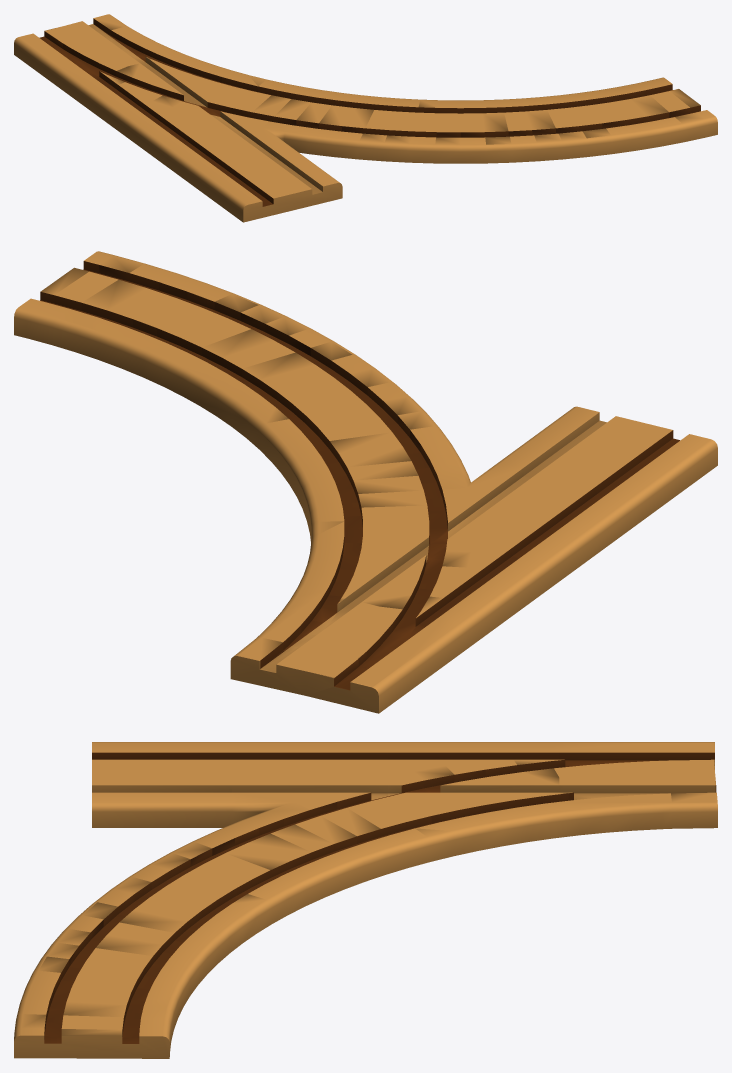
Rendered from JunctionLeft.fbx.
3 renders of one model, top to bottom at view 1: azimuth 30°, elevation 25°; view 2: azimuth 150°, elevation 25°; view 3: azimuth 270°, elevation 25°, orthographic. The views are drawn at different scales.
Parts seen in each view (by area): view 1: JunctionLeft; view 2: JunctionLeft; view 3: JunctionLeft.
Part boxes in pixels (left/top/right/bottom): JunctionLeft: left=14, top=14, right=717, bottom=222; JunctionLeft: left=14, top=251, right=717, bottom=713; JunctionLeft: left=14, top=742, right=717, bottom=1058.
Bounding box in the file's own units: 4.51 × 0.16 × 4.52.
